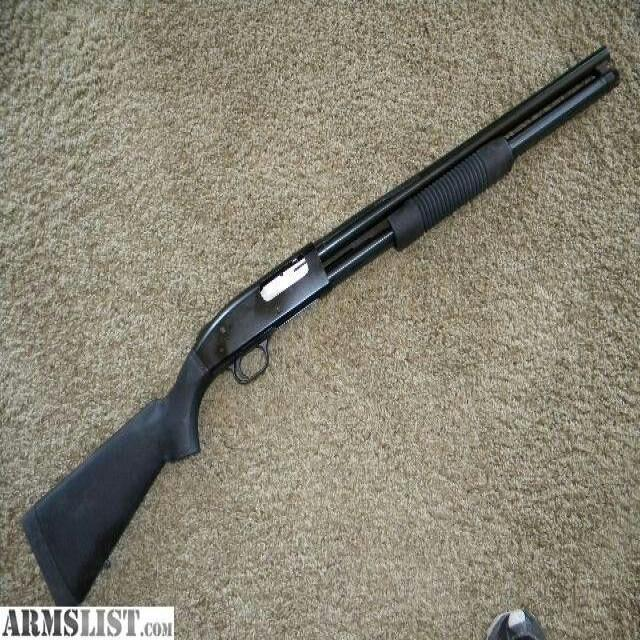ShotGun: (24, 48, 620, 608)
